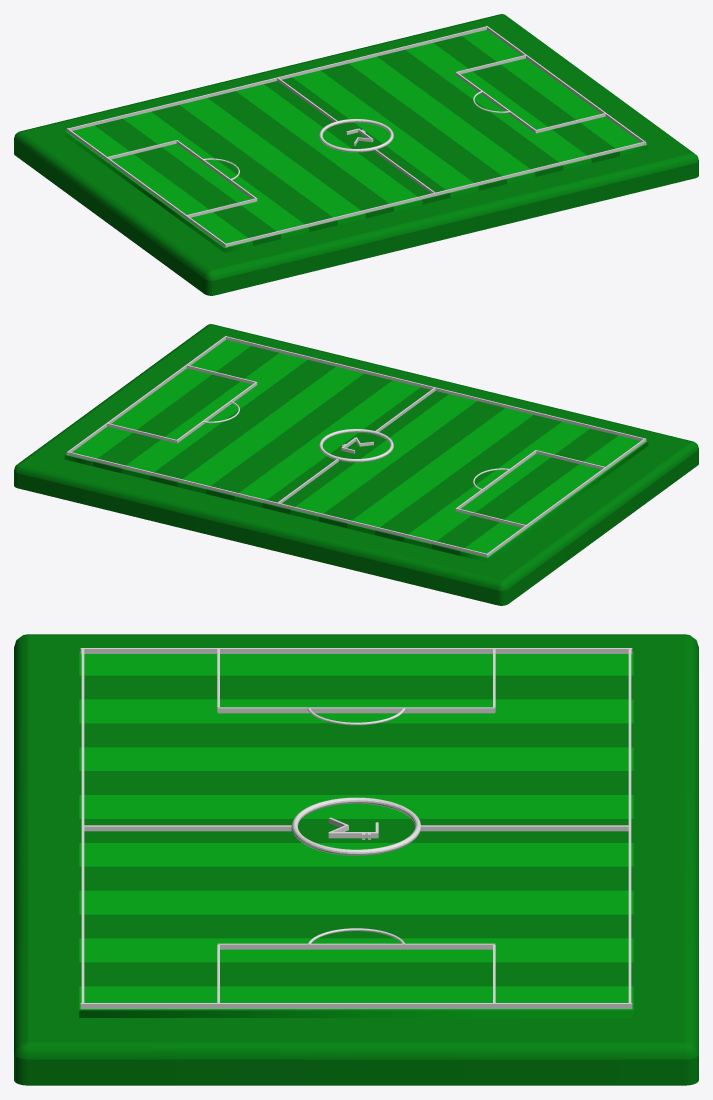
File: field_m.fbx
3 renders of one model, top to bottom at view 1: azimuth 30°, elevation 25°; view 2: azimuth 150°, elevation 25°; view 3: azimuth 270°, elevation 25°, orthographic. The views are drawn at different scales.
Parts seen in each view (by area): view 1: rect; view 2: rect; view 3: rect.
Part boxes in pixels (x1,y1,x2,y2): rect: [14, 14, 698, 295]; rect: [14, 324, 698, 605]; rect: [14, 634, 698, 1085].
Size of the model in its own units: 16820 by 994 by 11660.
